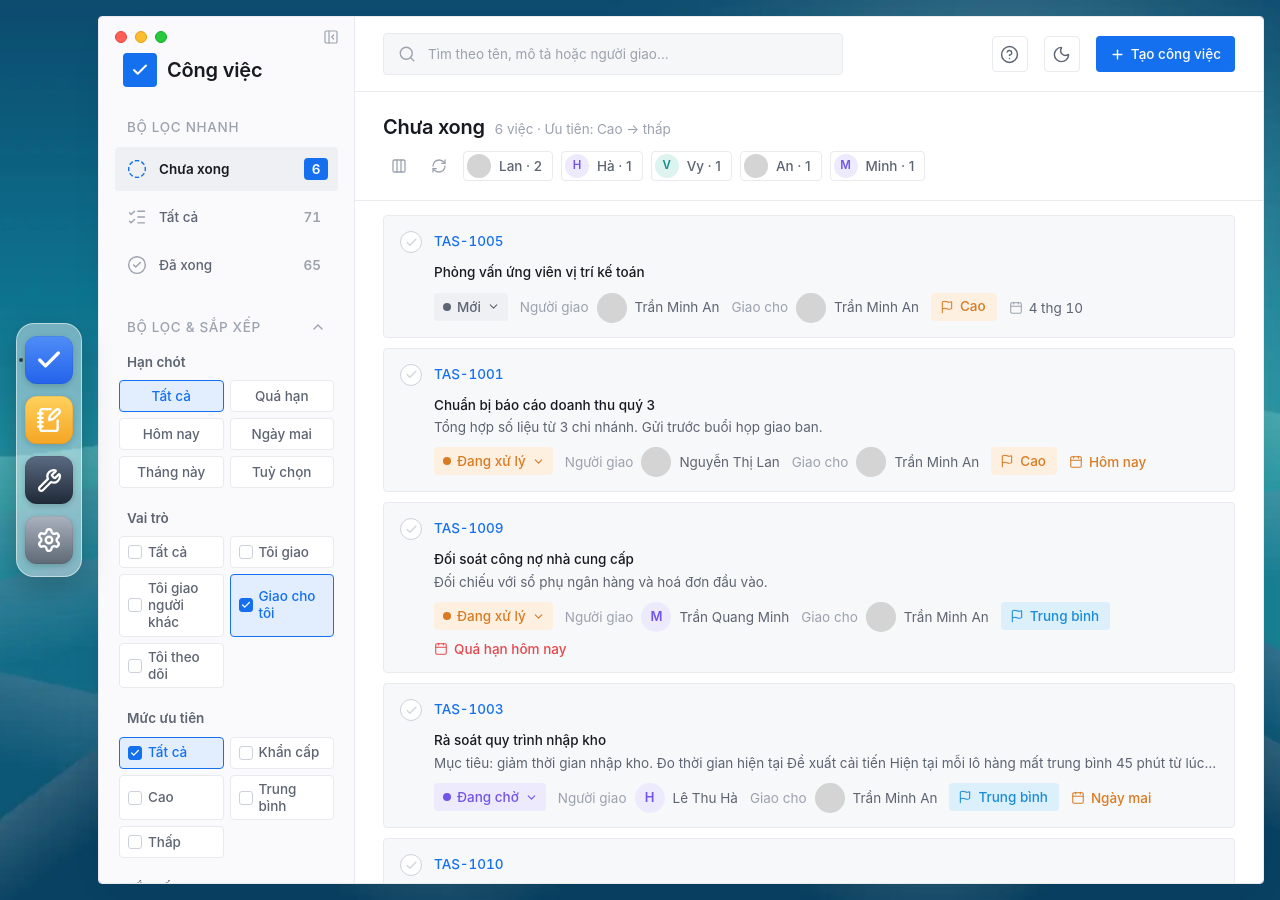
Test: Desktop (macOS style) › closes the app (no window, no running dot) and opens it fresh from the dock
Check: the list item with test id "task-item" that starts with "TAS-1005" is shown, box [383,215,1235,338]
Type "zzz" into the search field at (627, 54), box [426,34,828,74]
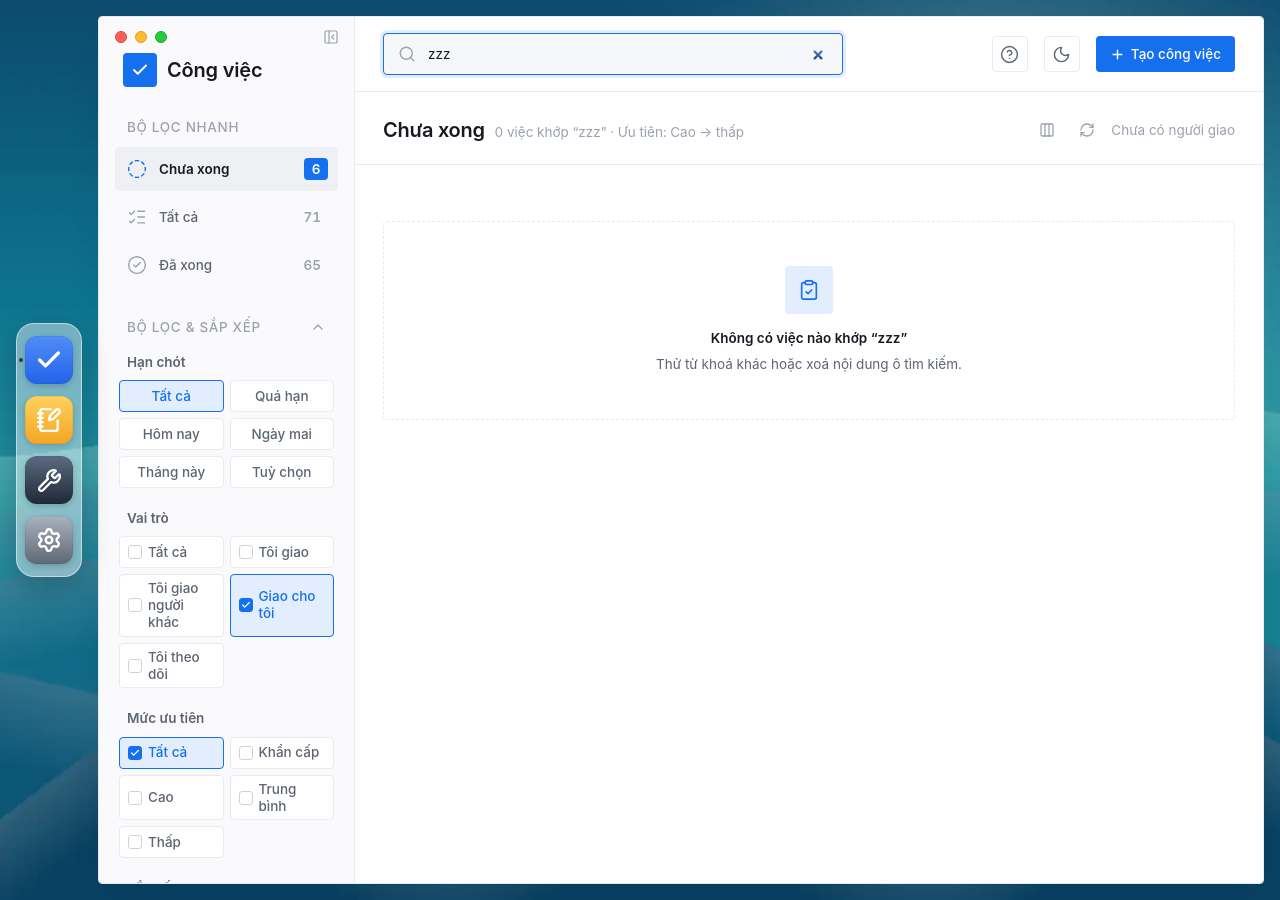
Click the button with test id "win-close" at (121, 37), box [115,31,127,43]
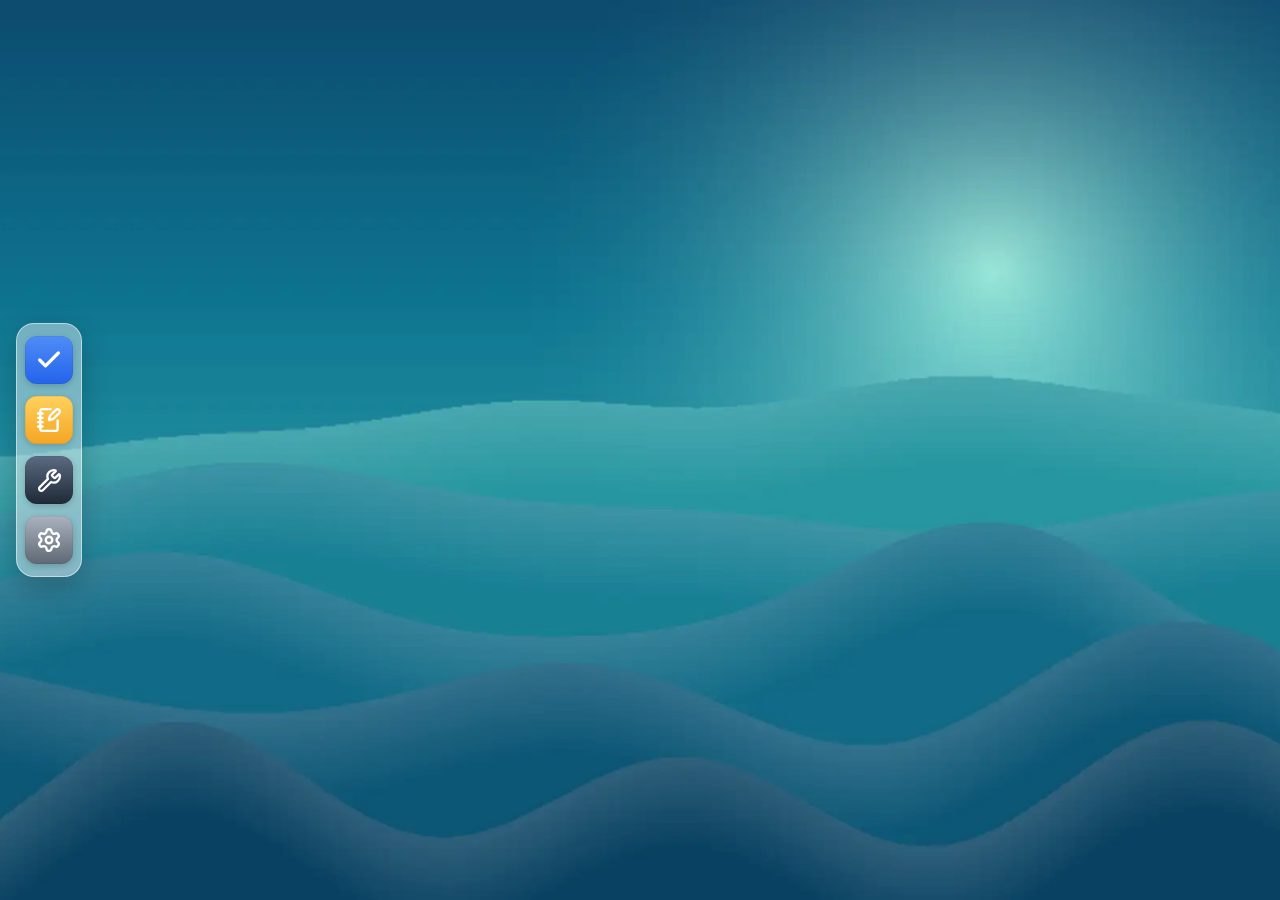
Check: the element with class "dock-dot" is gone
Click the button with test id "dock-app-cong-viec" at (49, 360), box [25,336,73,384]
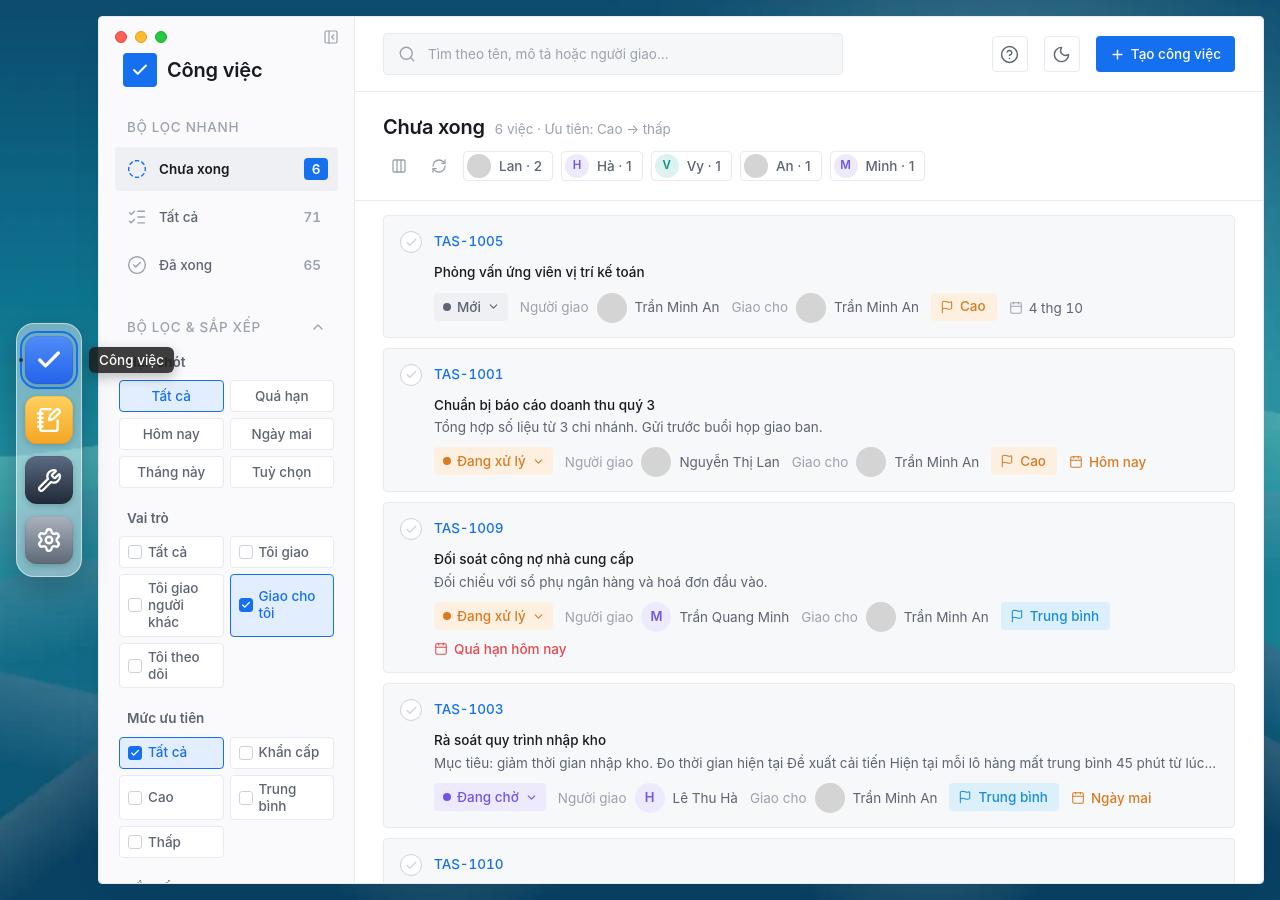
Check: the list item with test id "task-item" that starts with "TAS-1005" is shown, box [383,215,1235,338]
Check: the search field is empty, box [426,34,828,74]
